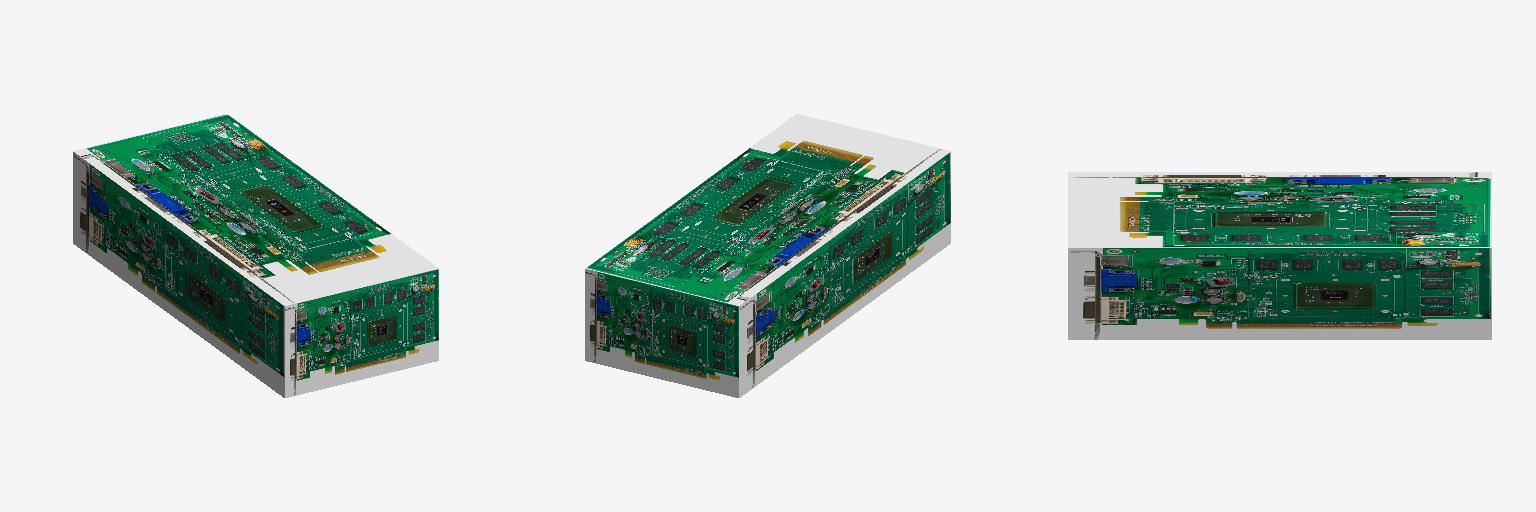
3 renders of one model, left to right at view 1: azimuth 30°, elevation 25°; view 2: azimuth 150°, elevation 25°; view 3: azimuth 270°, elevation 25°, orthographic.
Visible parts, largest first — view 1: Box01; view 2: Box01; view 3: Box01.
Part boxes in pixels (x1,y1,x2,y2): Box01: (73,114,438,397); Box01: (585,114,950,397); Box01: (1068,172,1491,339).
Size of the model in its own units: 0.4736 by 0.2701 by 1.13.
3 materials, 1 textured.